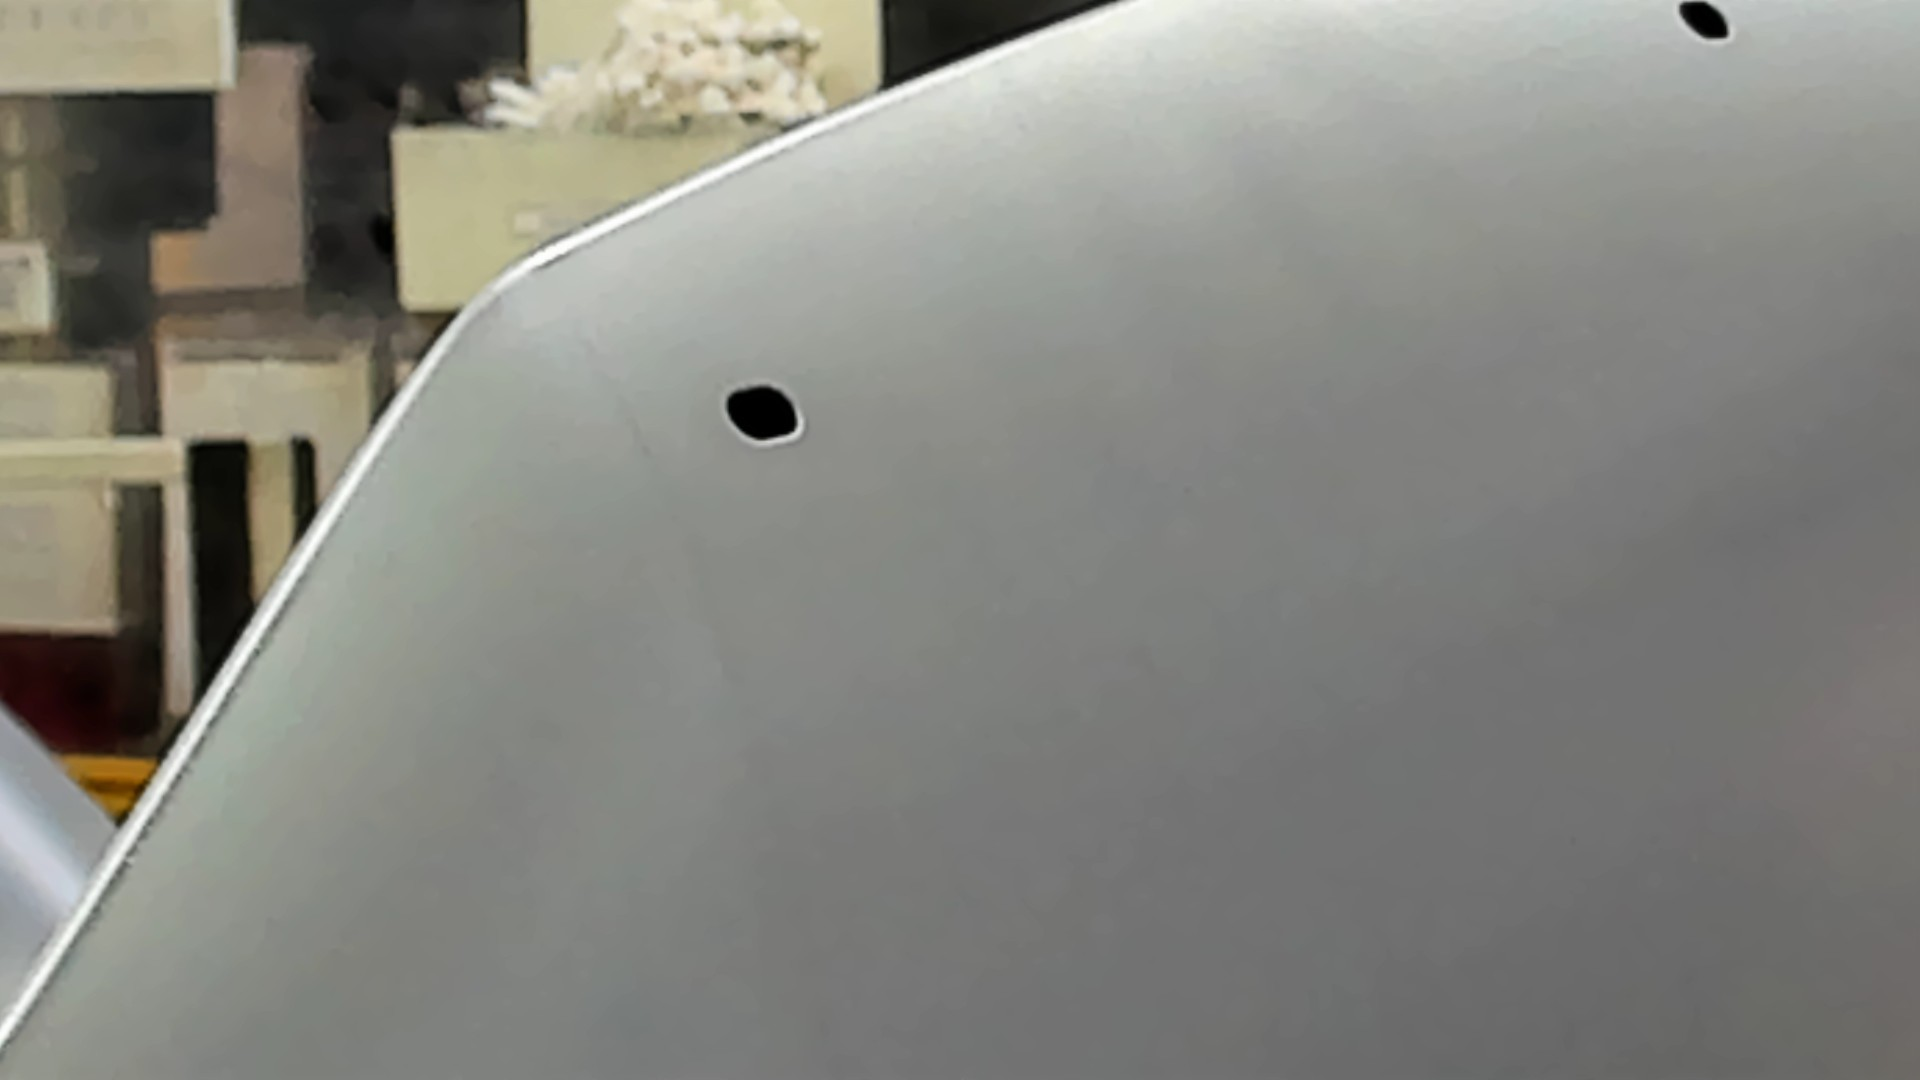amorfo: (717, 376, 806, 450), (1673, 1, 1741, 50)
